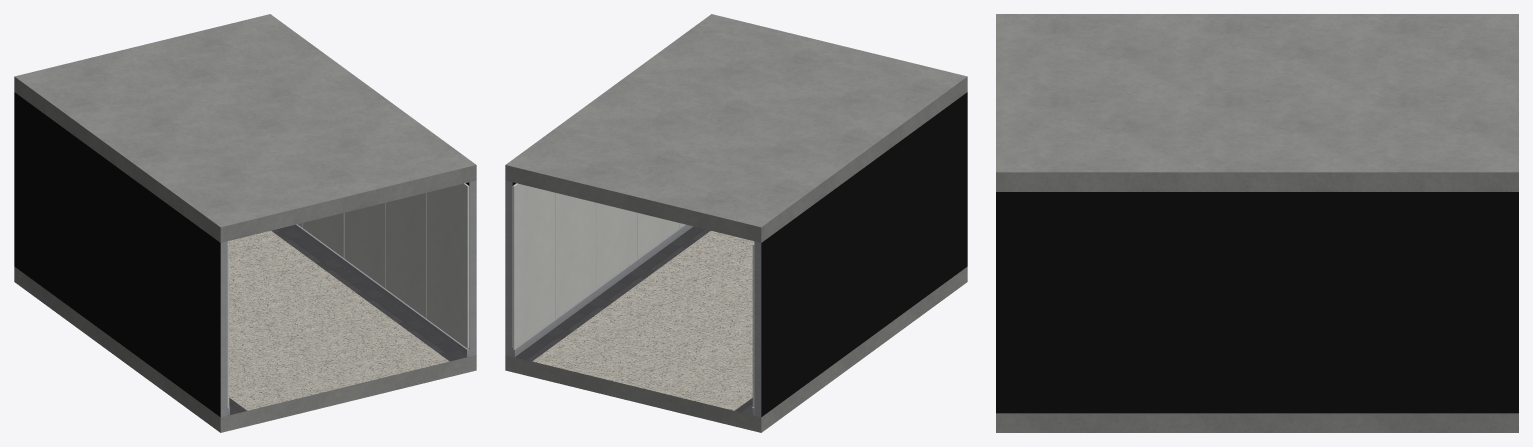
File: gteki_passage_straight_w4_l6.glb
The picture shows the model from 3 angles, left to right: view 1: azimuth 30°, elevation 25°; view 2: azimuth 150°, elevation 25°; view 3: azimuth 270°, elevation 25°; orthographic projection. The views are drawn at different scales.
Parts seen in each view (by area): view 1: VIS_ceiling, VIS_walls, VIS_floor; view 2: VIS_ceiling, VIS_walls, VIS_floor; view 3: VIS_walls, VIS_ceiling, VIS_floor.
Boxes of the visible parts, box(x1,y1,x2,y2) form: VIS_ceiling: box(14, 14, 476, 242); VIS_walls: box(14, 92, 476, 417); VIS_floor: box(14, 226, 476, 432); VIS_ceiling: box(505, 14, 967, 242); VIS_walls: box(505, 92, 967, 417); VIS_floor: box(505, 226, 967, 432); VIS_walls: box(996, 192, 1518, 413); VIS_ceiling: box(996, 14, 1518, 191); VIS_floor: box(996, 413, 1518, 432).
Size of what is drawn, in the model's own units: 4.3 by 3.3 by 6.
9 materials, 6 textured.
